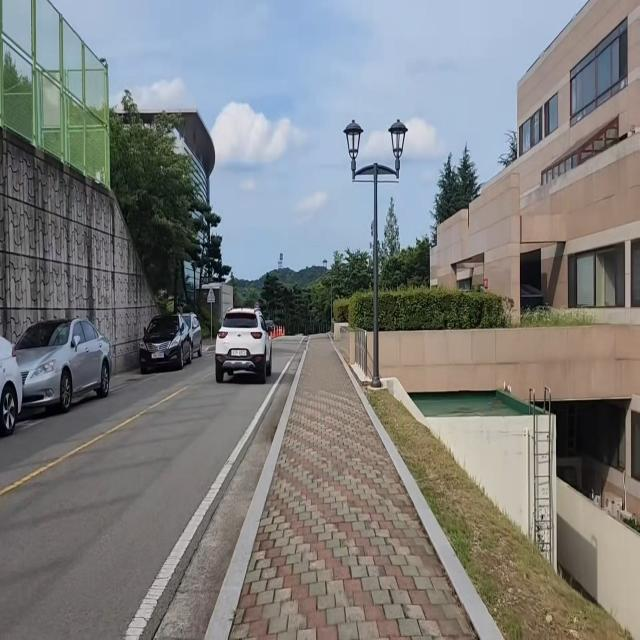obstacle: (339, 113, 412, 394), (0, 305, 117, 444), (212, 298, 281, 385), (138, 298, 206, 376)
sidewalk: (212, 332, 507, 640)
